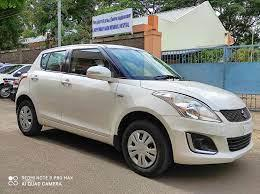Hatchback: (15, 43, 253, 177), (0, 64, 30, 99)
